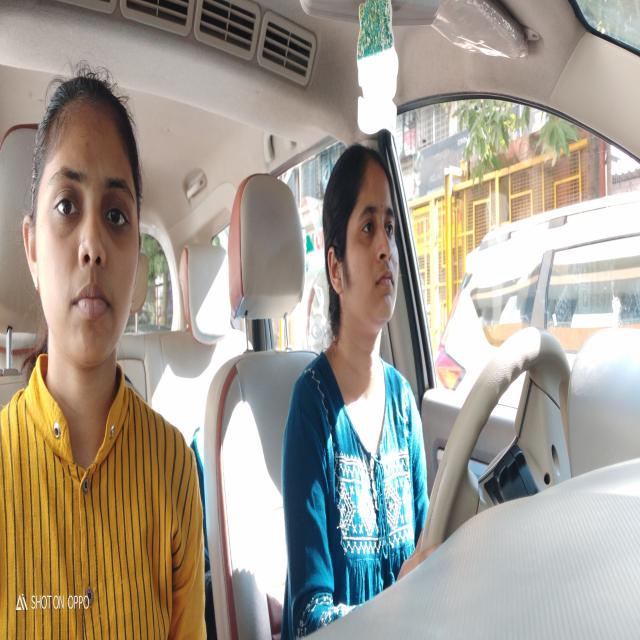person: (17, 58, 152, 364), (318, 132, 417, 374)
